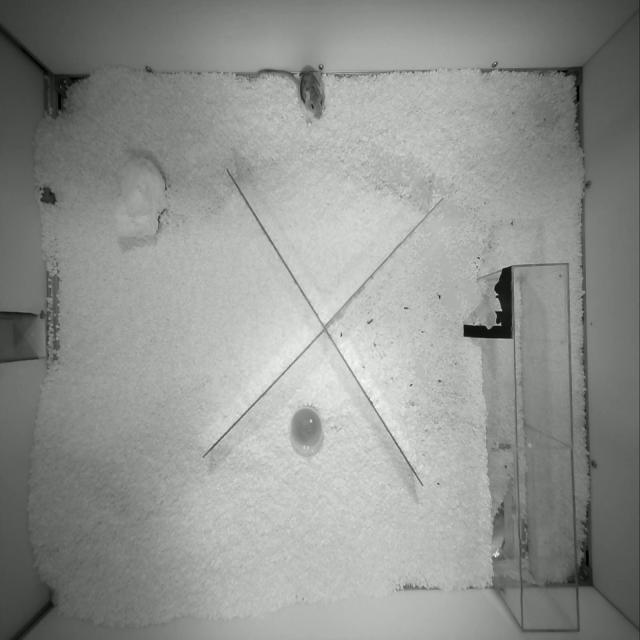adult_front: (258, 65, 324, 121)
